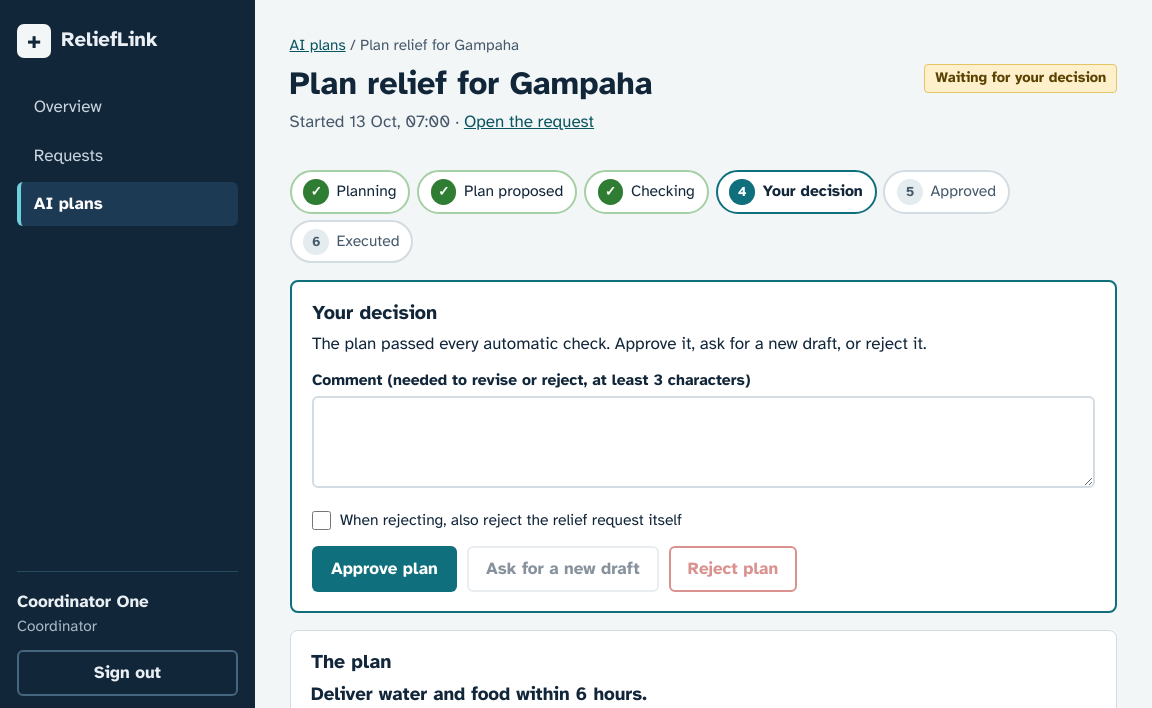
Test case: Workflow detail: actions › approves without a comment
Click the button "Approve plan" at (384, 569), box [312, 546, 457, 592]
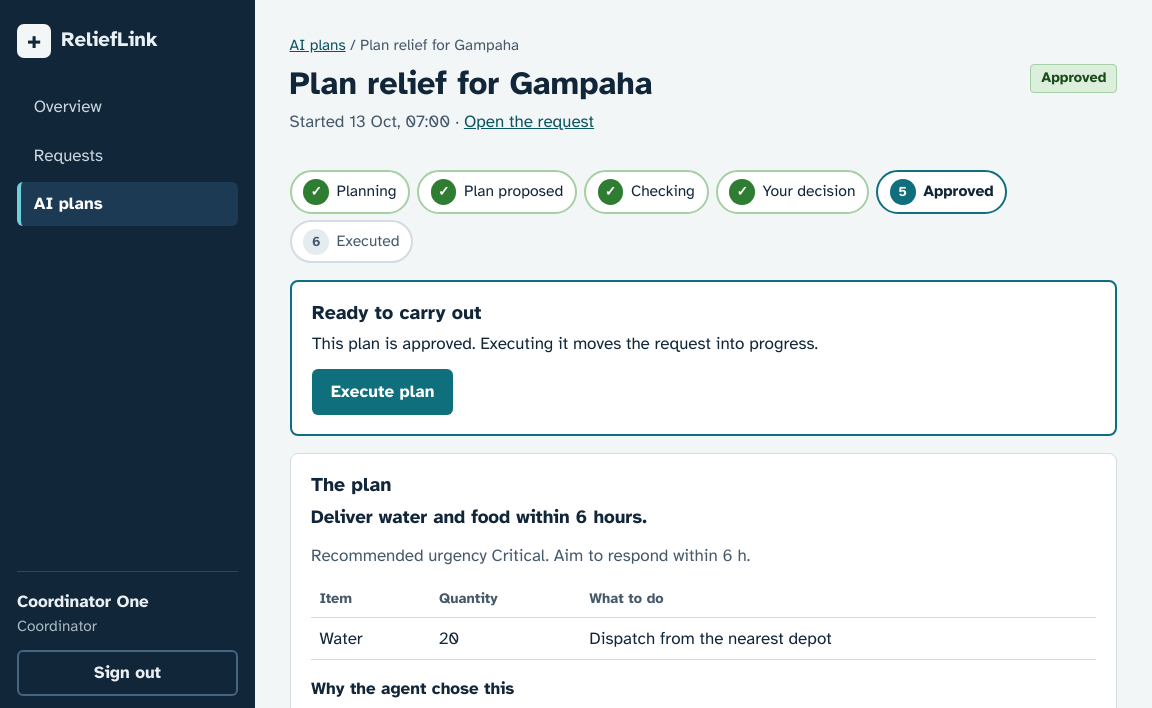
Now the button "Execute plan" is shown, box [312, 369, 453, 415]
